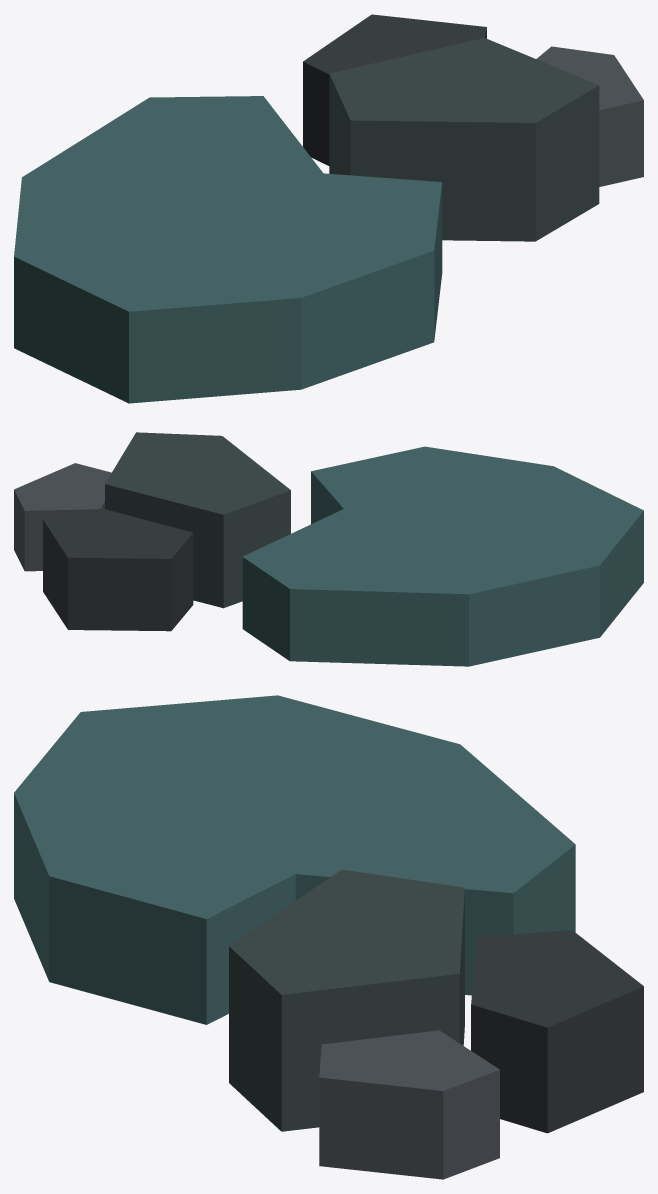
Rendered from TP_Stone01.fbx.
3 views of the same model, one above another, from view 1: azimuth 30°, elevation 25°; view 2: azimuth 150°, elevation 25°; view 3: azimuth 270°, elevation 25° (orthographic). The views are drawn at different scales.
Parts seen in each view (by area): view 1: TP_Stone01; view 2: TP_Stone01; view 3: TP_Stone01.
Part boxes in pixels (x1,y1,x2,y2): TP_Stone01: (14, 14, 643, 403); TP_Stone01: (14, 432, 643, 666); TP_Stone01: (14, 695, 643, 1179).
Size of the model in its own units: 114 by 19.19 by 80.05.
1 material, 1 textured.
